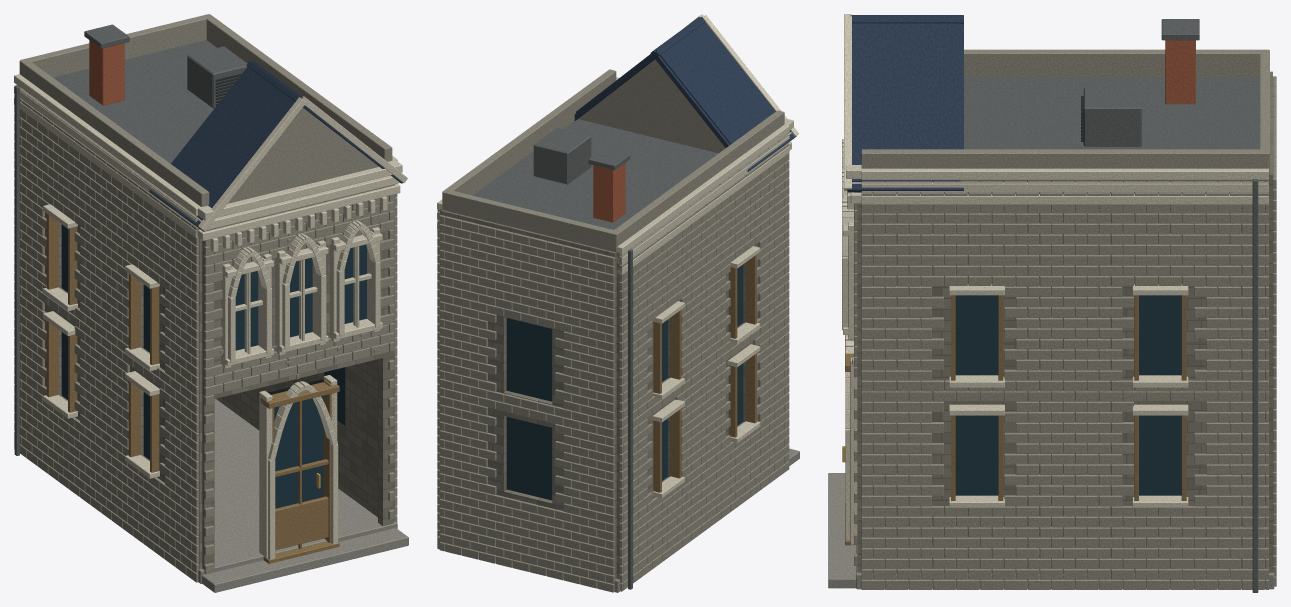
Rendered from CLSTGA19_lod0.glb.
The picture shows the model from 3 angles, left to right: view 1: azimuth 30°, elevation 25°; view 2: azimuth 150°, elevation 25°; view 3: azimuth 270°, elevation 25°; orthographic projection. The views are drawn at different scales.
Visible parts, largest first — view 1: CLSTGA19_LOD0; view 2: CLSTGA19_LOD0; view 3: CLSTGA19_LOD0.
Part boxes in pixels (x1,y1,x2,y2): CLSTGA19_LOD0: (14, 14, 408, 592); CLSTGA19_LOD0: (437, 14, 799, 592); CLSTGA19_LOD0: (828, 14, 1276, 592).
Size of the model in its own units: 4.11 by 8.45 by 6.6.
14 materials, 11 textured.
